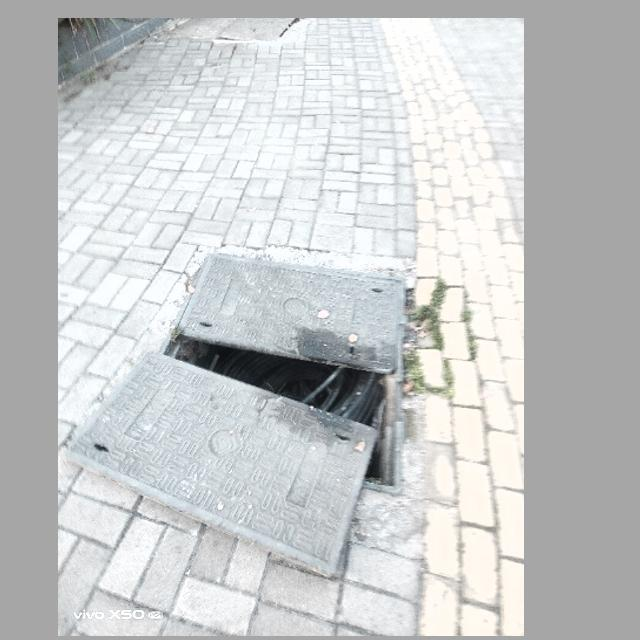uncovered: (69, 248, 407, 585)
